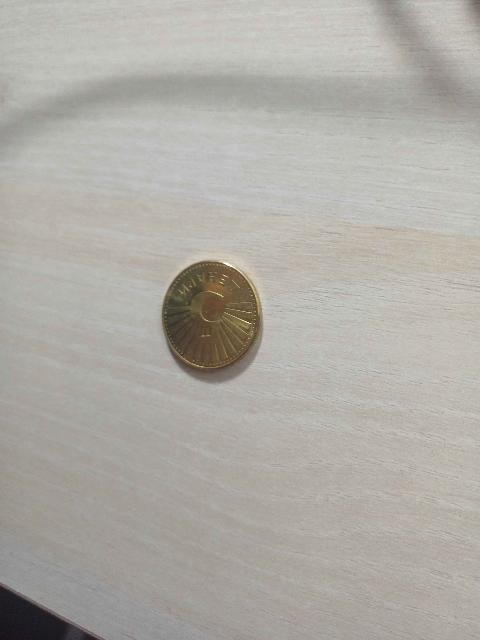5_coin: (163, 261, 261, 369)
